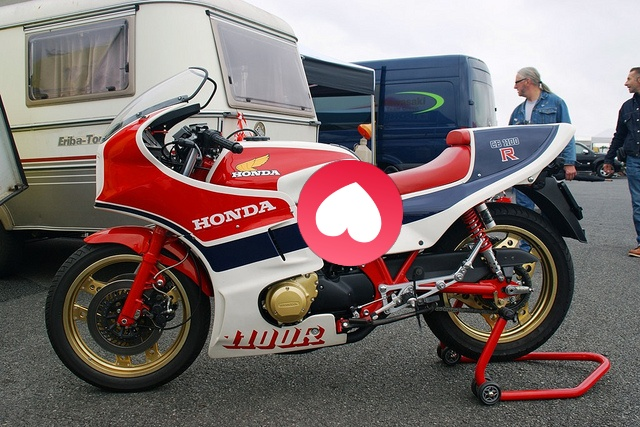love: (297, 160, 403, 266)
